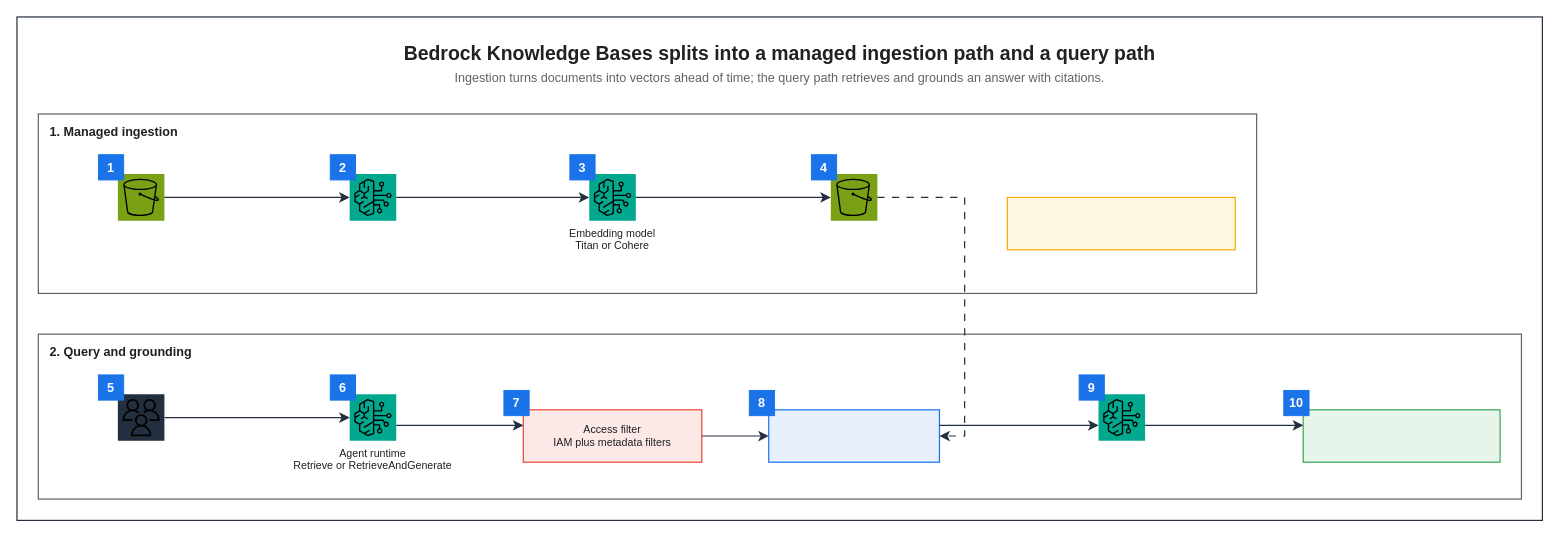
Image size: 1560x538. Some labels were removed from this diagram. The shapes that lost their labels are listed below. From the top down, each one's centre as x and y in pixels, then its label:
(x=140, y=197): Data sources S3 and connectors
(x=372, y=197): Bedrock KB fetch, parse, chunk
(x=853, y=197): Vector store managed, or a store you run (OpenSearch, Aurora, S3 Vectors)
(x=1120, y=223): Ingestion controls chunking, metadata, sync schedule
(x=140, y=417): User or app natural language query
(x=854, y=435): Vector search top-k chunks
(x=1121, y=417): Foundation model grounded generation
(x=1401, y=435): Answer with citations traceable back to the source
